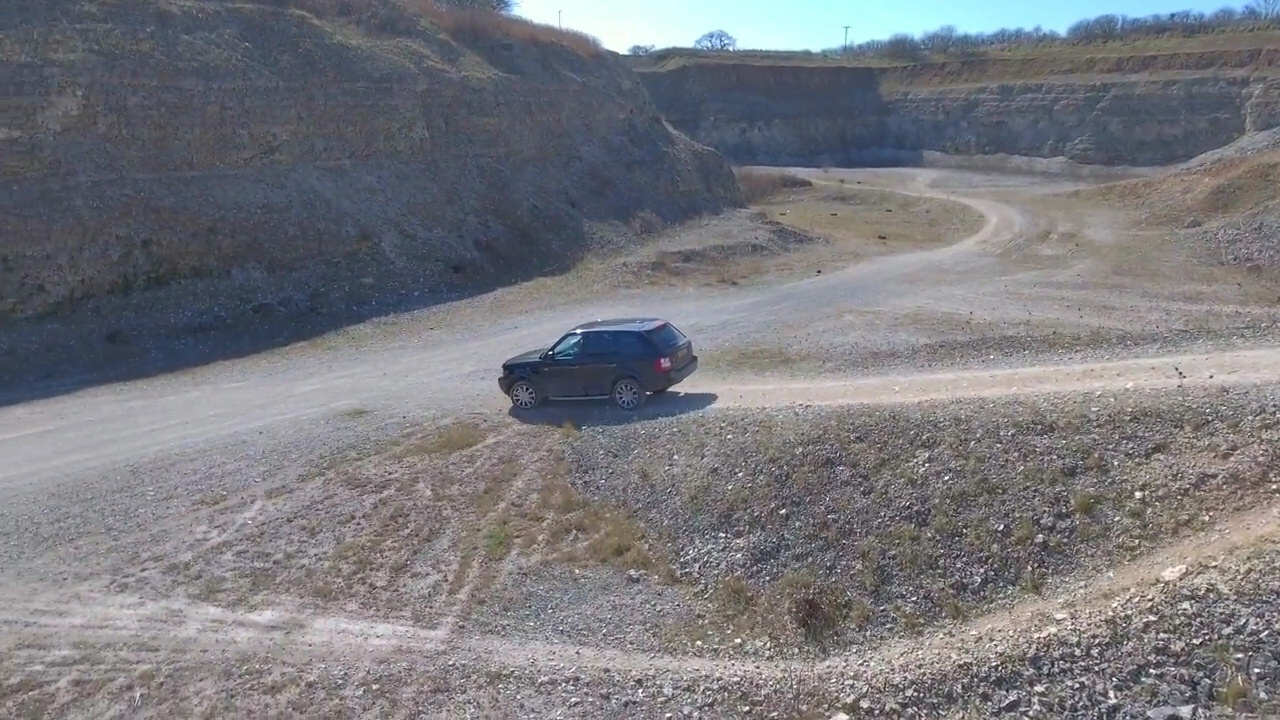araba: (493, 317, 699, 410)
